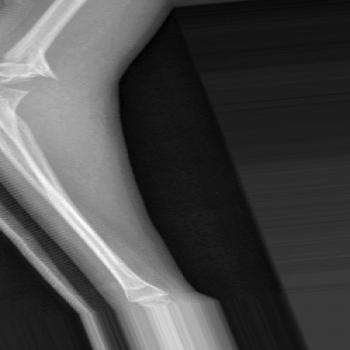Fracture: (0, 66, 64, 96)
